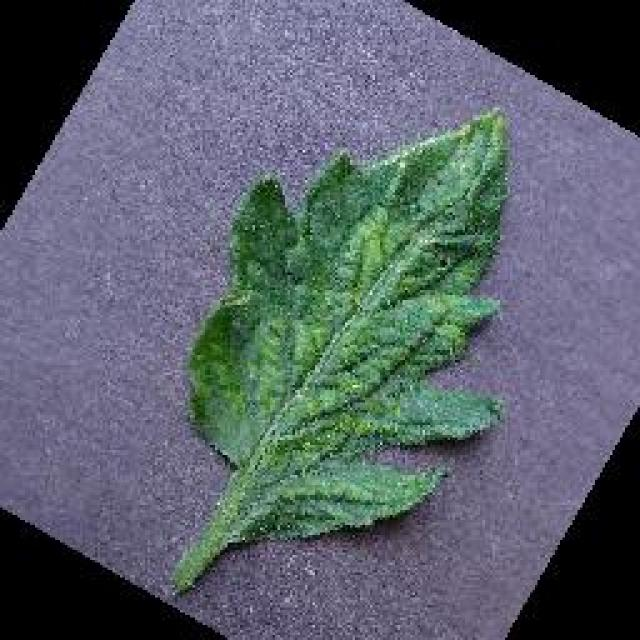Tomato___Tomato_mosaic_virus: (175, 112, 505, 588)
